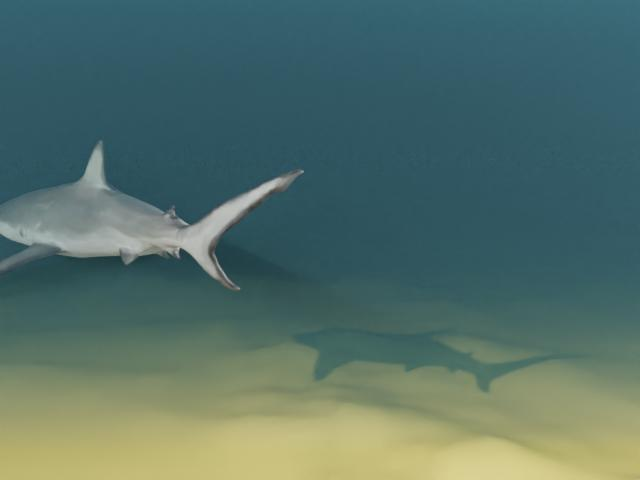Carribean Shark.001: (0, 139, 303, 291)
